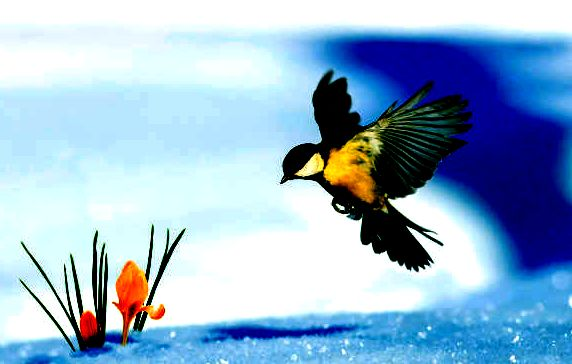Bird: (276, 64, 474, 276)
